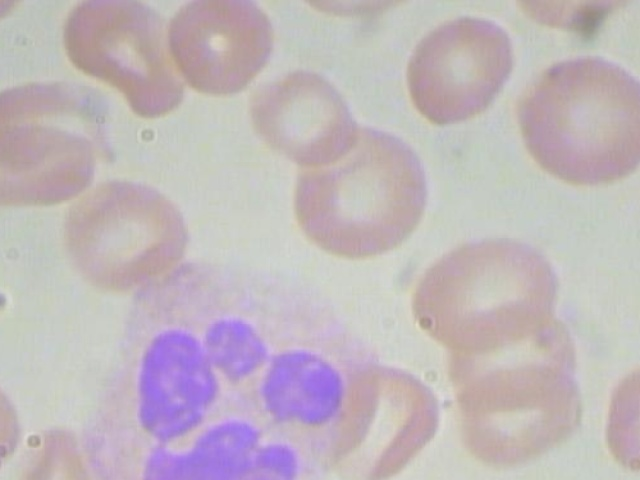RBC: (403, 222, 568, 355), (289, 119, 425, 265), (505, 50, 640, 195), (56, 171, 195, 295), (56, 0, 186, 123), (395, 13, 524, 134), (248, 57, 355, 172), (164, 0, 277, 104), (0, 118, 97, 213), (604, 346, 640, 480), (288, 0, 434, 28), (0, 367, 31, 480), (0, 0, 36, 36)
WBC: (87, 258, 392, 480)
